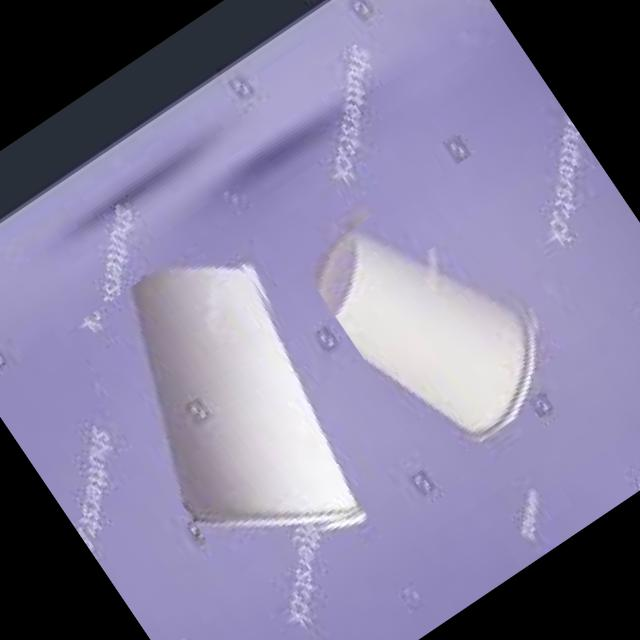PaperCardboard: (130, 266, 358, 525), (307, 230, 532, 442)
